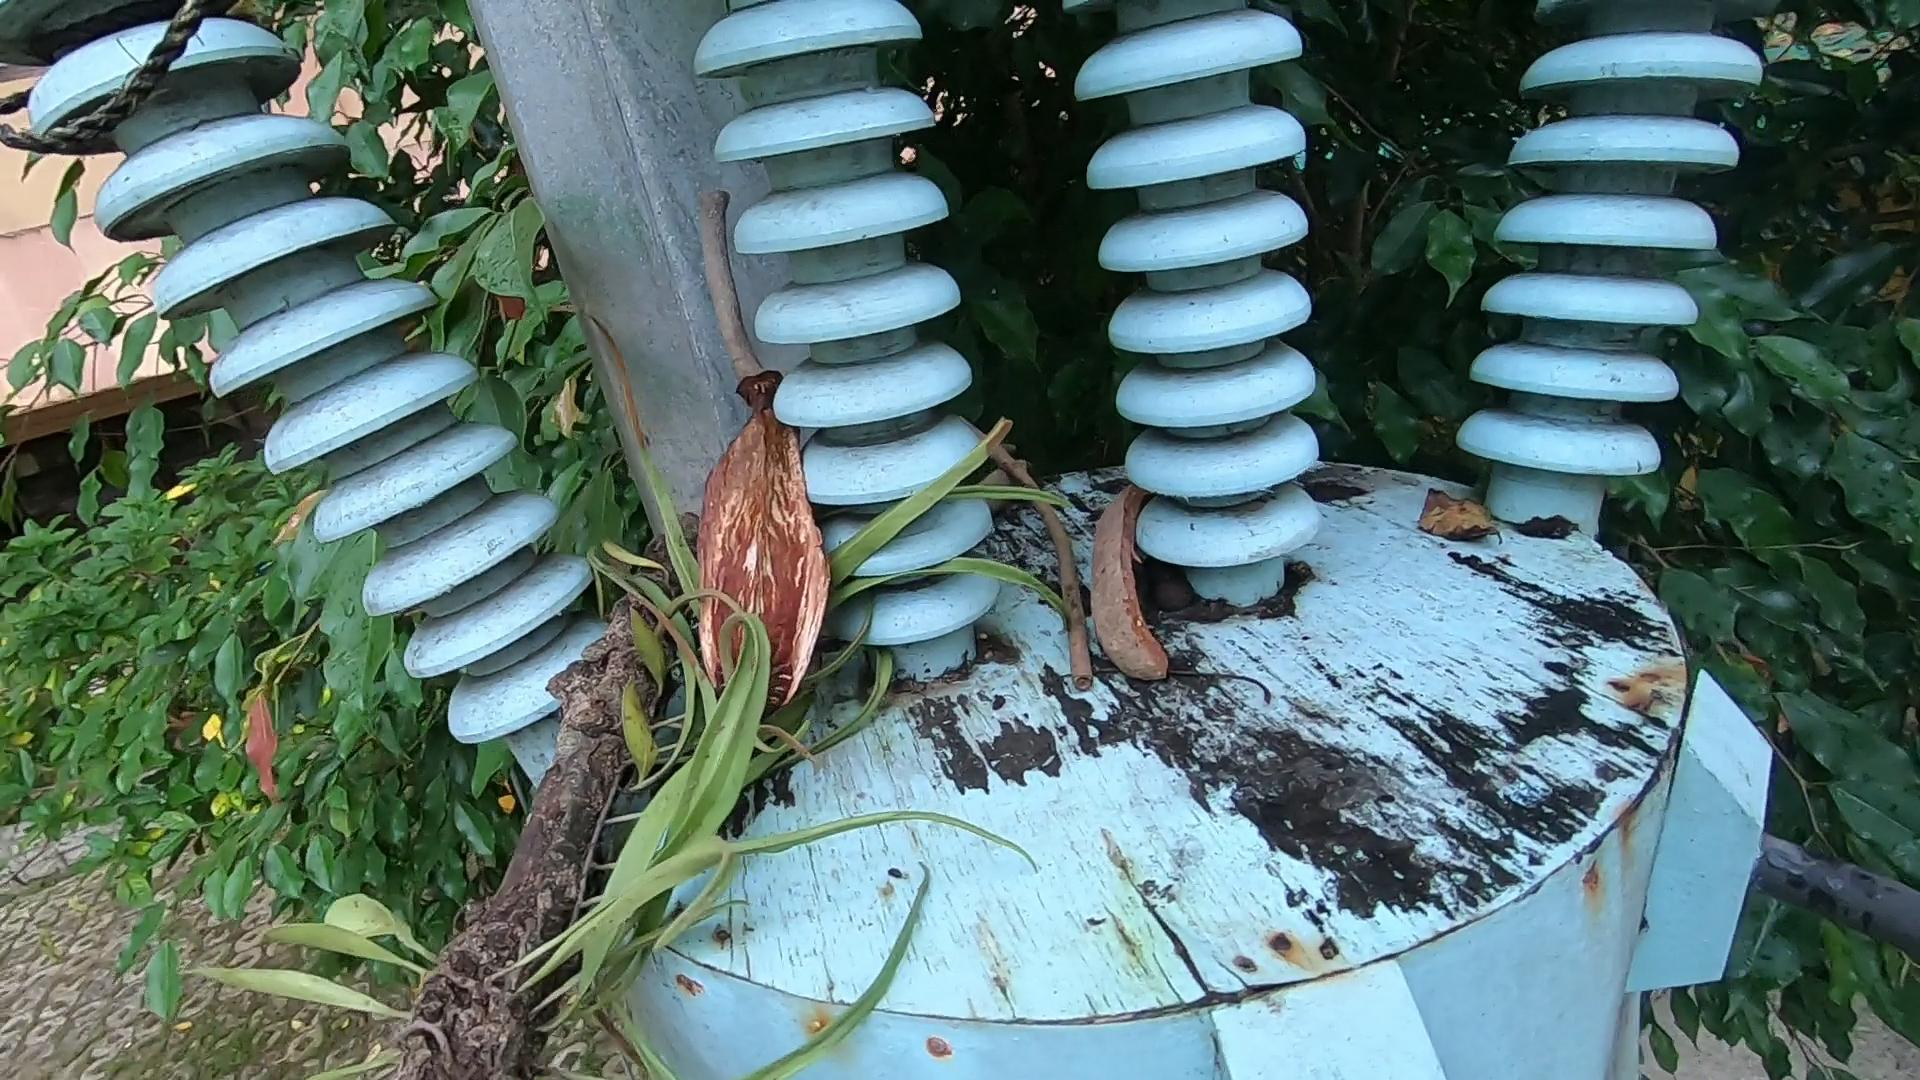branch with leaves: (185, 446, 1004, 1080)
leaf: (1404, 465, 1516, 571)
mahogany fruit: (1026, 438, 1236, 727), (673, 371, 814, 756)
tree branch: (645, 179, 828, 398), (978, 429, 1085, 713)
